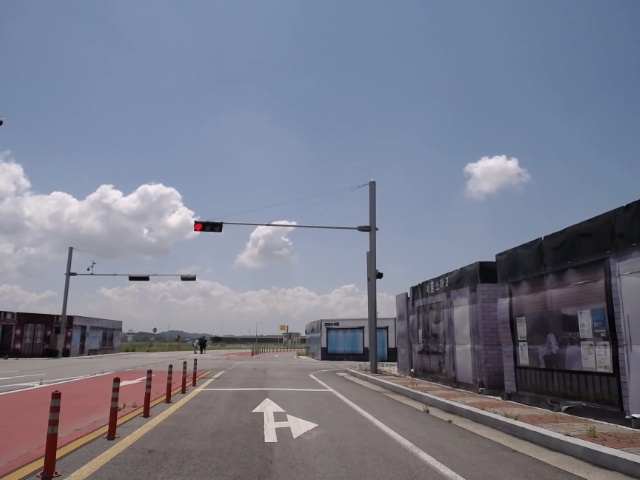red_3: (194, 221, 223, 234)
